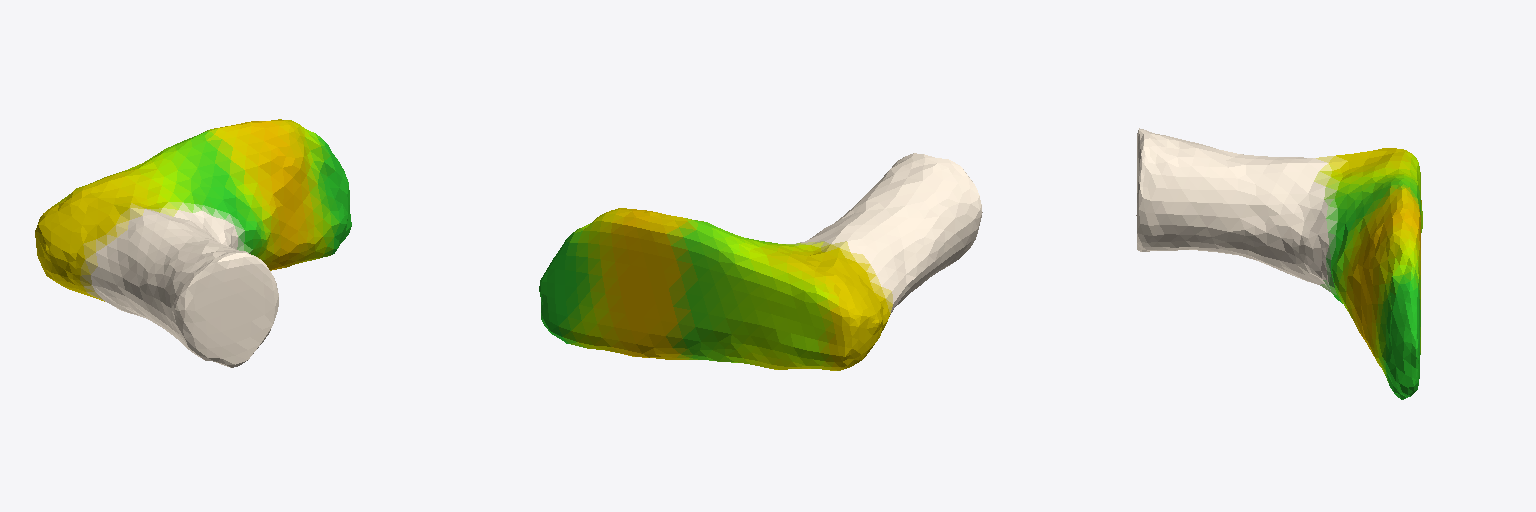
File: left.obj
The picture shows the model from 3 angles: view 1: azimuth 30°, elevation 25°; view 2: azimuth 150°, elevation 25°; view 3: azimuth 270°, elevation 25°; orthographic projection.
Size of the model in its own units: 237 by 109 by 184.